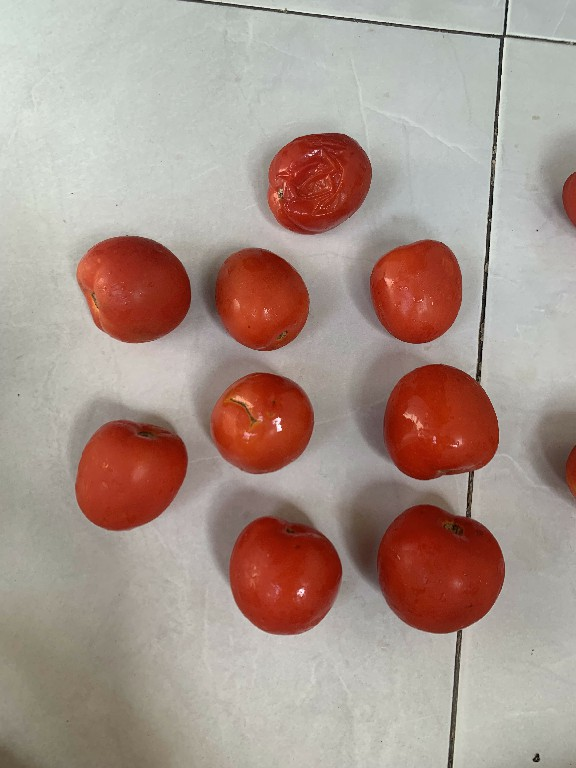NG: (253, 123, 371, 238), (205, 367, 317, 473)
OK: (375, 500, 507, 641), (219, 509, 349, 636), (374, 360, 504, 482), (74, 416, 197, 534), (70, 228, 196, 338), (212, 244, 312, 353), (366, 234, 466, 342)
